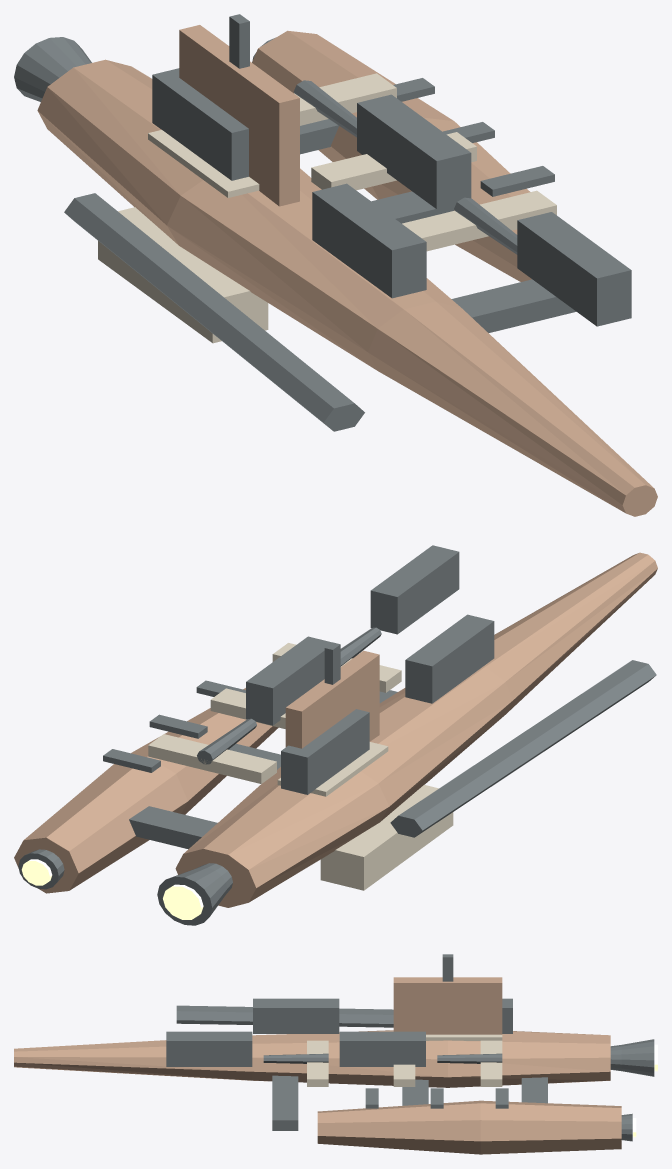
The picture shows the model from 3 angles, top to bottom: view 1: azimuth 30°, elevation 25°; view 2: azimuth 150°, elevation 25°; view 3: azimuth 270°, elevation 25°; orthographic projection. The views are drawn at different scales.
Size of the model in its own units: 7.42 by 4.33 by 17.91.
